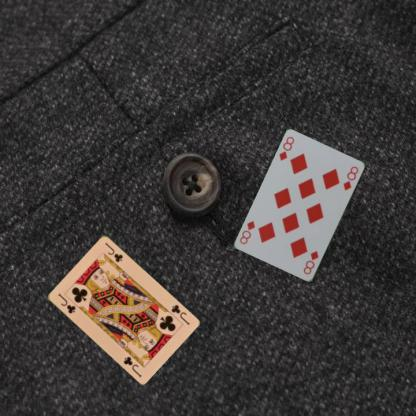8d: (301, 248, 320, 276), (277, 134, 296, 162)
Jc: (168, 302, 191, 327), (55, 291, 77, 315)
